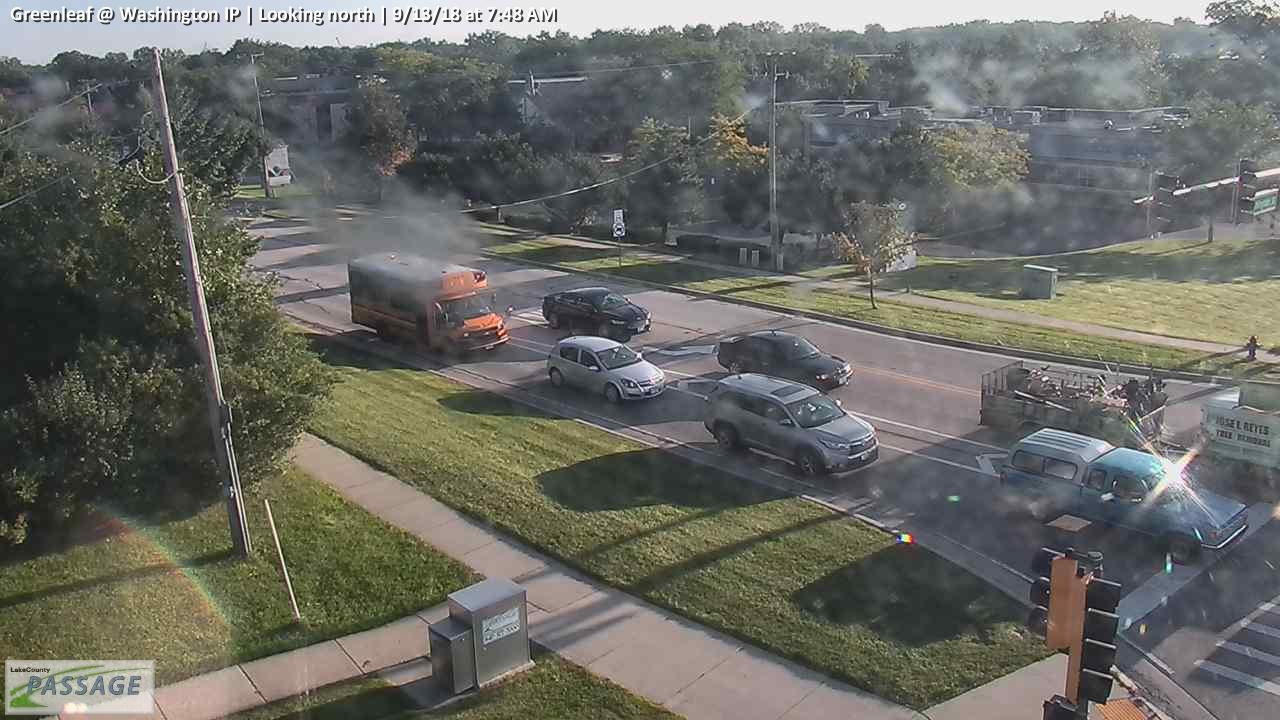Bus: (347, 252, 514, 357)
SUV: (703, 366, 879, 478)
Sedan: (717, 329, 853, 393), (545, 335, 667, 404), (542, 285, 651, 343)
Truck: (980, 329, 1280, 502), (998, 426, 1250, 565)
